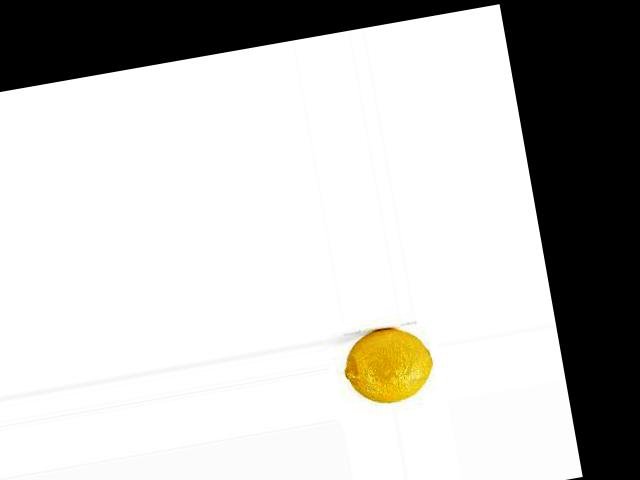lemon: (325, 318, 447, 413)
